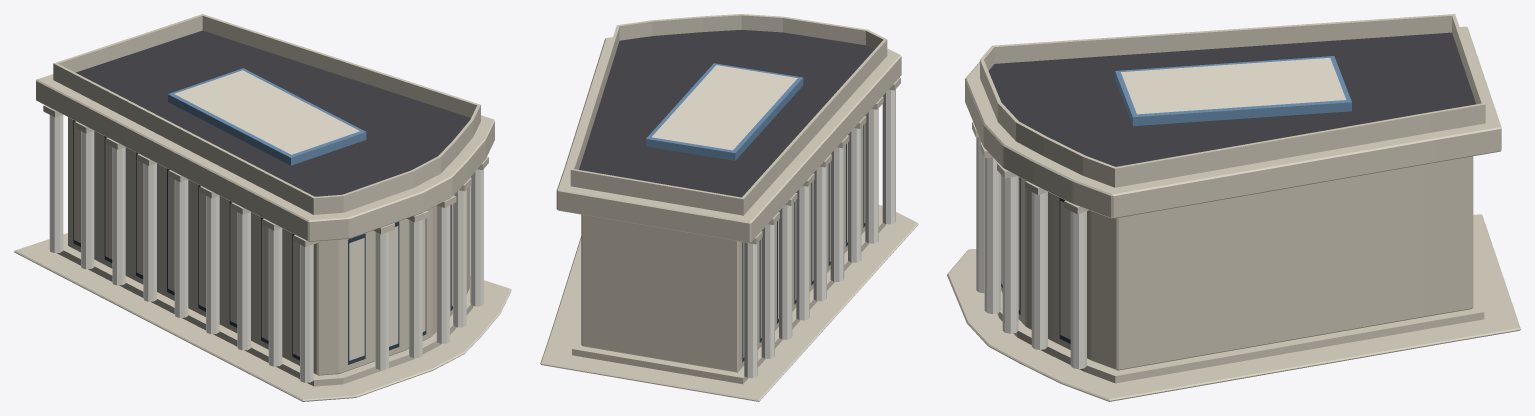
The model's file is 2-grant-avenue.glb.
3 renders of one model, left to right at view 1: azimuth 30°, elevation 25°; view 2: azimuth 150°, elevation 25°; view 3: azimuth 270°, elevation 25°, orthographic. The views are drawn at different scales.
Visible parts, largest first — view 1: 2-grant-avenue_body, 2-grant-avenue_night_glow; view 2: 2-grant-avenue_body, 2-grant-avenue_night_glow; view 3: 2-grant-avenue_body, 2-grant-avenue_night_glow.
Boxes of the visible parts, box(x1,y1,x2,y2) form: 2-grant-avenue_body: box(14, 14, 511, 401); 2-grant-avenue_night_glow: box(74, 70, 452, 360); 2-grant-avenue_body: box(540, 14, 918, 401); 2-grant-avenue_night_glow: box(652, 65, 865, 357); 2-grant-avenue_body: box(947, 14, 1520, 401); 2-grant-avenue_night_glow: box(1001, 58, 1346, 339).
Size of the model in its own units: 35.65 by 19.5 by 46.5.
